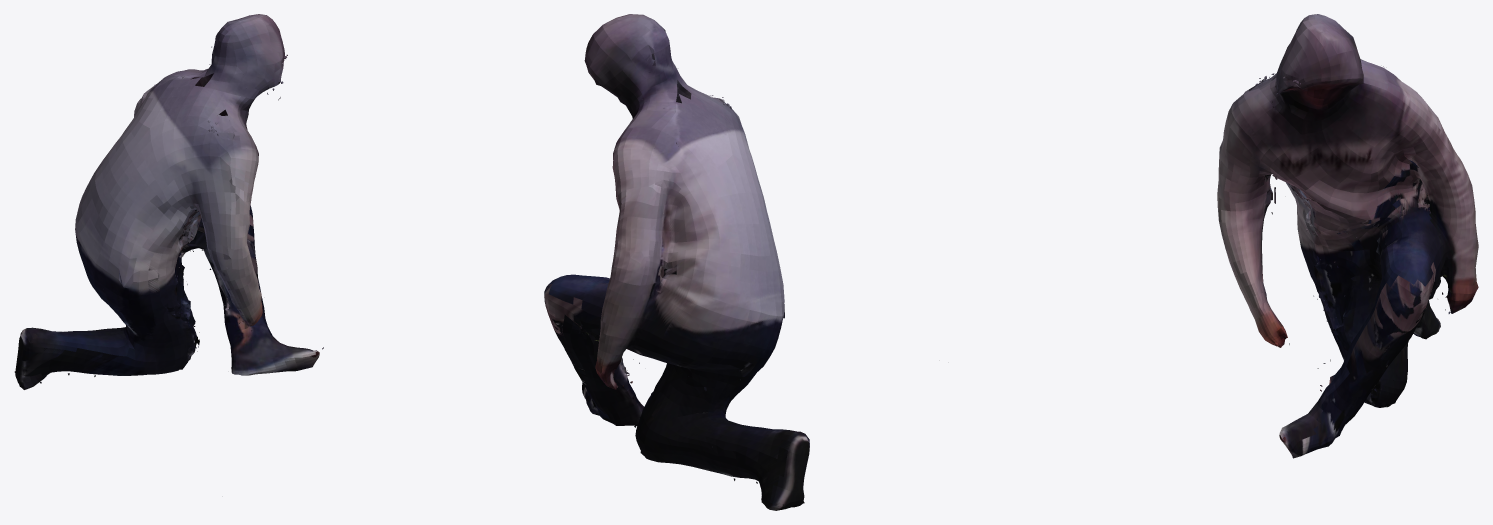
Rendered from AB-death_0000063.obj.
3 renders of one model, left to right at view 1: azimuth 30°, elevation 25°; view 2: azimuth 150°, elevation 25°; view 3: azimuth 270°, elevation 25°, orthographic. The views are drawn at different scales.
Parts seen in each view (by area): view 1: Retopo_frame_0000063_mesh; view 2: Retopo_frame_0000063_mesh; view 3: Retopo_frame_0000063_mesh.
Part boxes in pixels (box(x1,y1,x2,y2)): Retopo_frame_0000063_mesh: box(14, 14, 323, 389); Retopo_frame_0000063_mesh: box(544, 14, 809, 510); Retopo_frame_0000063_mesh: box(1217, 14, 1478, 458).
Size of the model in its own units: 1.2 by 1.18 by 1.17.
1 material, 1 textured.
